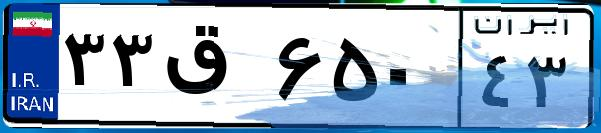0: (385, 28, 445, 110)
3: (57, 26, 110, 100), (525, 38, 570, 115), (110, 28, 158, 98)
4: (475, 38, 525, 113)
5: (330, 28, 385, 110)
6: (270, 28, 330, 110)
ق: (158, 20, 270, 120)
